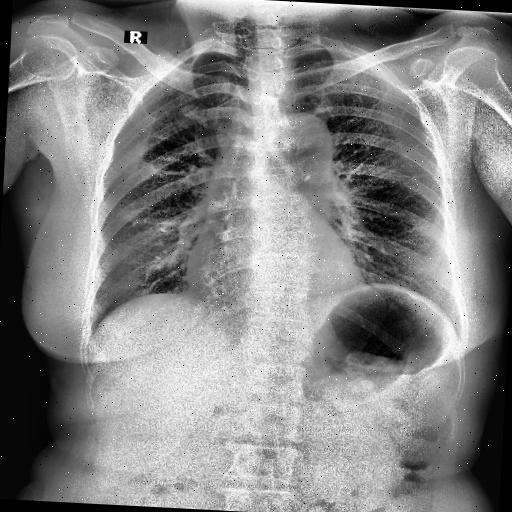0- Aortic enlargement: (278, 111, 338, 196), (268, 114, 336, 183), (288, 112, 334, 164)
